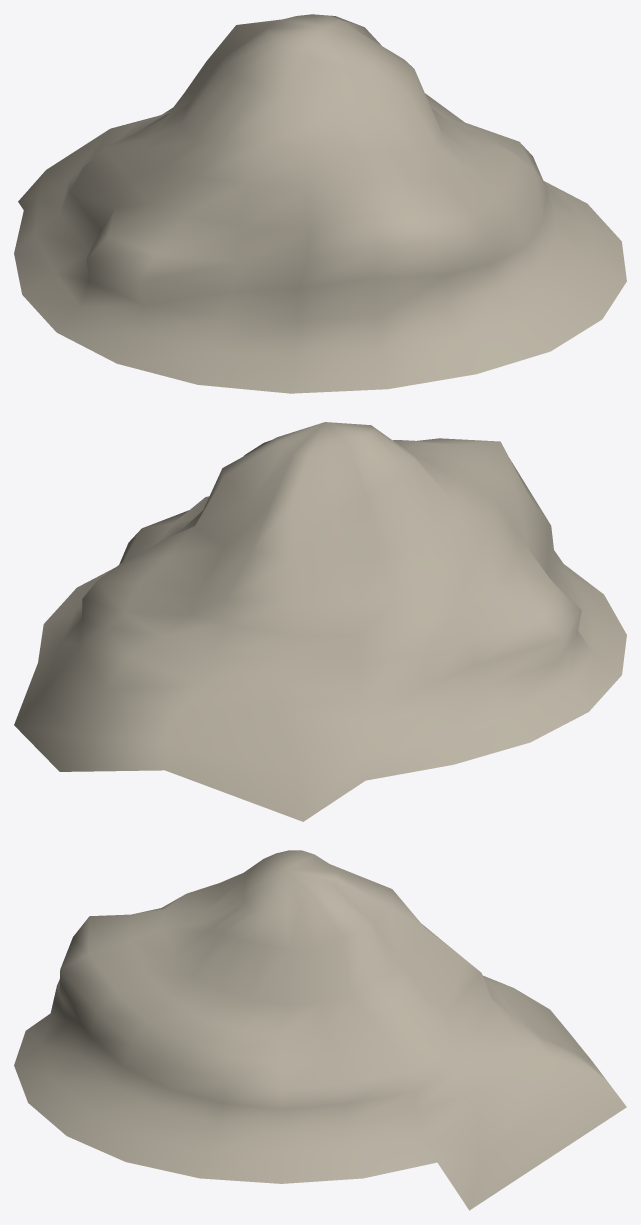
File: SM_Flour.fbx
3 views of the same model, one above another, from view 1: azimuth 30°, elevation 25°; view 2: azimuth 150°, elevation 25°; view 3: azimuth 270°, elevation 25° (orthographic). The views are drawn at different scales.
Visible parts, largest first — view 1: pSphere9; view 2: pSphere9; view 3: pSphere9.
Boxes of the visible parts, left/top/right/bottom form: pSphere9: left=14, top=14, right=626, bottom=393; pSphere9: left=14, top=422, right=626, bottom=821; pSphere9: left=14, top=850, right=626, bottom=1210.
Bounding box in the file's own units: 81.69 × 42.61 × 94.66.
